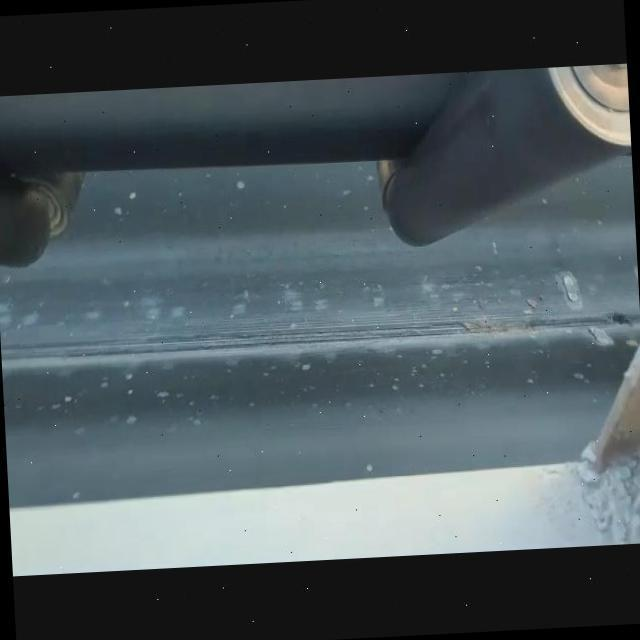Wear: (0, 302, 640, 371)
